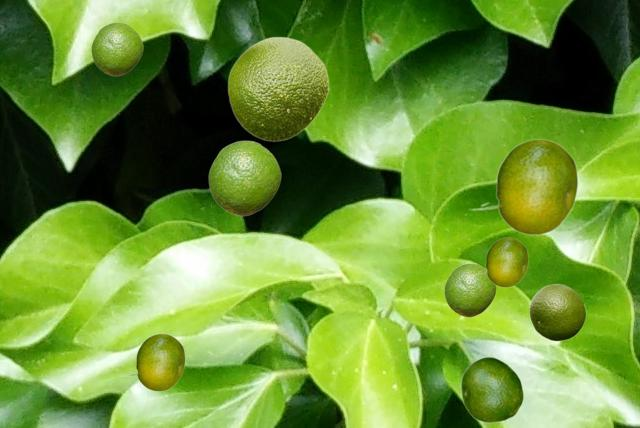calamansi: (227, 36, 328, 141), (468, 138, 577, 234), (208, 140, 280, 215), (460, 356, 523, 422), (119, 333, 184, 390), (529, 283, 585, 340), (471, 237, 527, 286), (91, 22, 142, 75), (444, 263, 495, 316)
